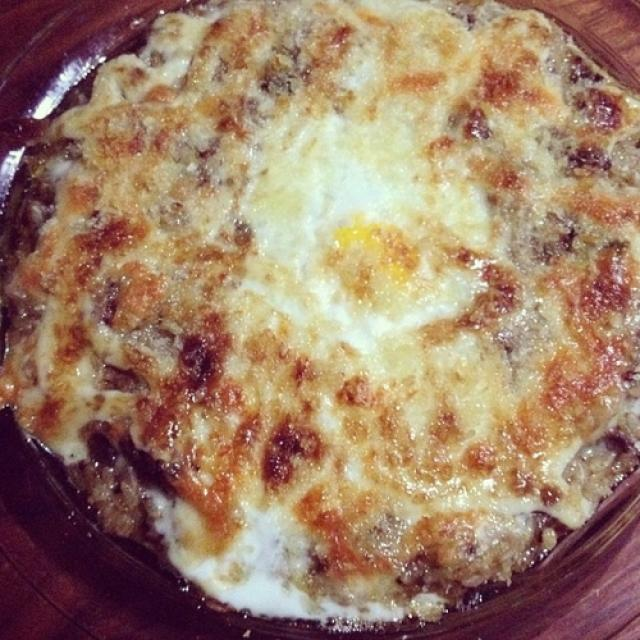米饭主食: (11, 10, 626, 616)
